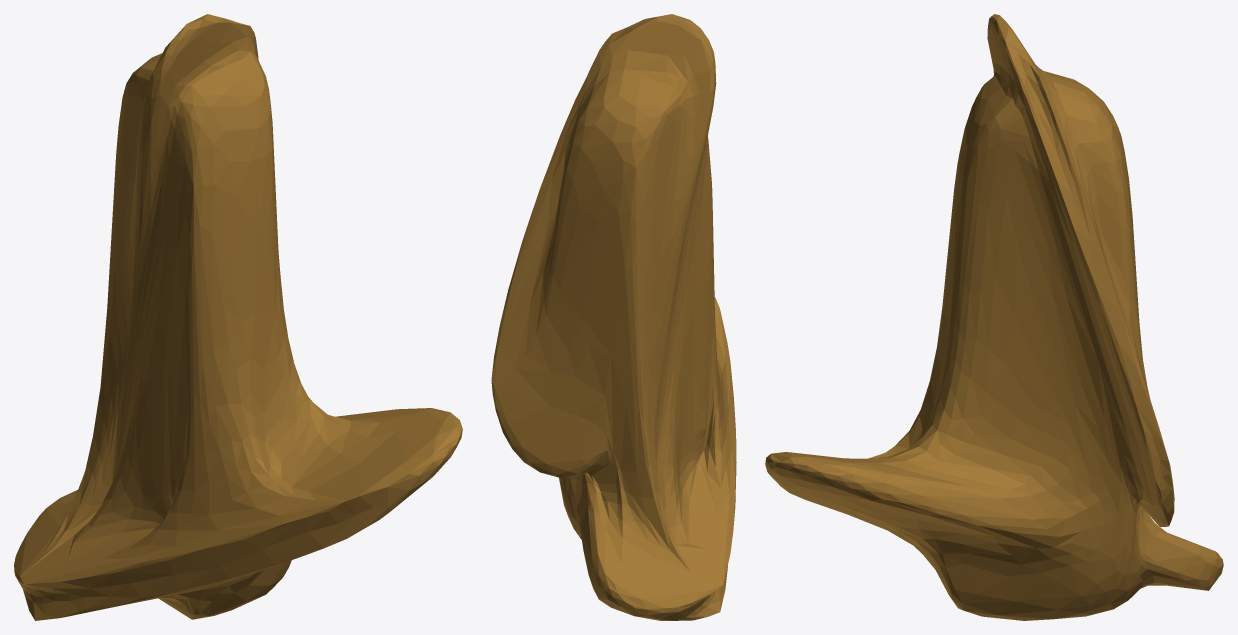
The picture shows the model from 3 angles, left to right: view 1: azimuth 30°, elevation 25°; view 2: azimuth 150°, elevation 25°; view 3: azimuth 270°, elevation 25°; orthographic projection. The views are drawn at different scales.
Visible parts, largest first — view 1: 986_Cube.3977; view 2: 986_Cube.3977; view 3: 986_Cube.3977.
Boxes of the visible parts, x1=… form: 986_Cube.3977: x1=14, y1=14, x2=462, y2=620; 986_Cube.3977: x1=491, y1=14, x2=736, y2=620; 986_Cube.3977: x1=765, y1=14, x2=1223, y2=620.
Size of the model in its own units: 6.77 by 13.94 by 9.47.
